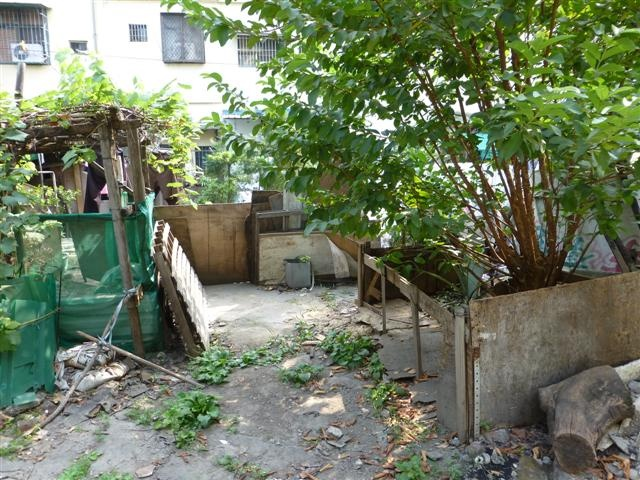bucket: (281, 254, 315, 291)
